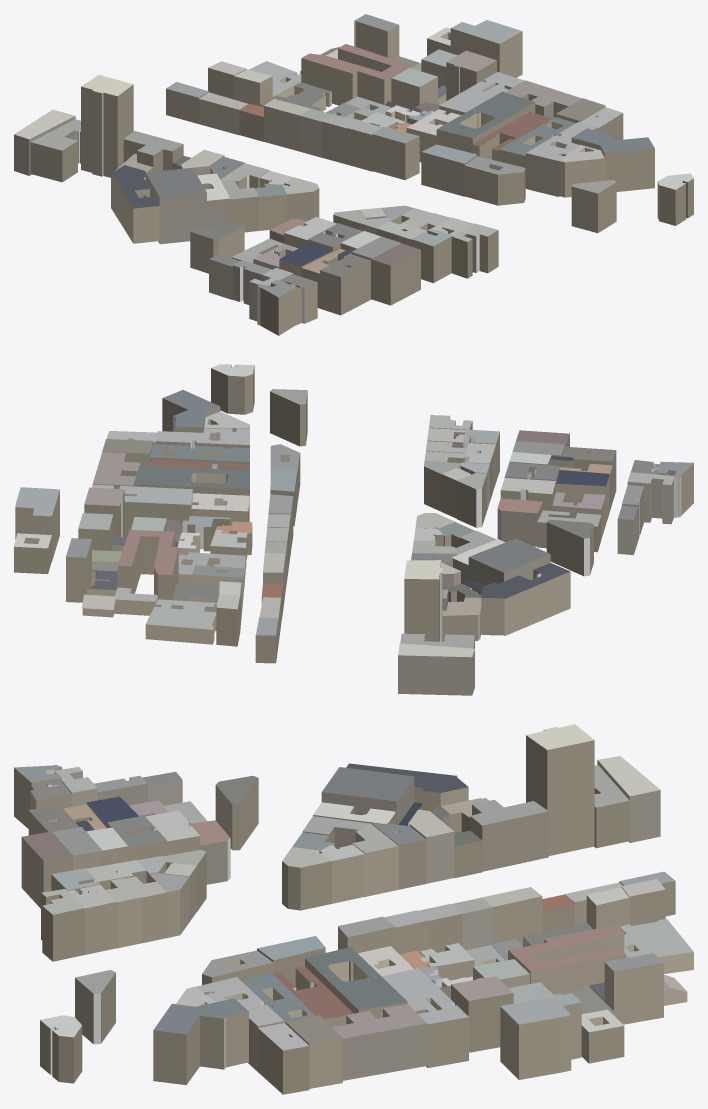
3 views of the same model, one above another, from view 1: azimuth 30°, elevation 25°; view 2: azimuth 150°, elevation 25°; view 3: azimuth 270°, elevation 25° (orthographic). The views are drawn at different scales.
Parts seen in each view (by area): view 1: tuile; view 2: tuile; view 3: tuile.
Part boxes in pixels (<box>): tuile: <box>14,14,693,335</box>; tuile: <box>14,364,693,695</box>; tuile: <box>14,724,693,1094</box>.
Bounding box in the file's own units: 278 × 49.11 × 269.
